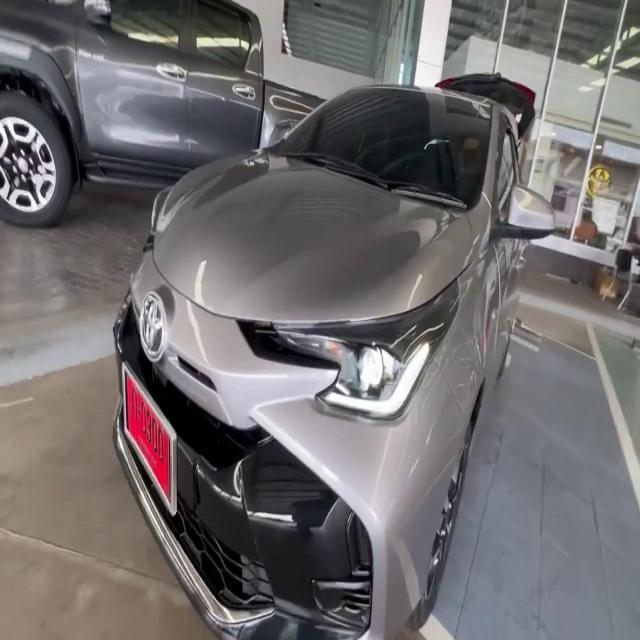Hatchback: (114, 76, 554, 639)
